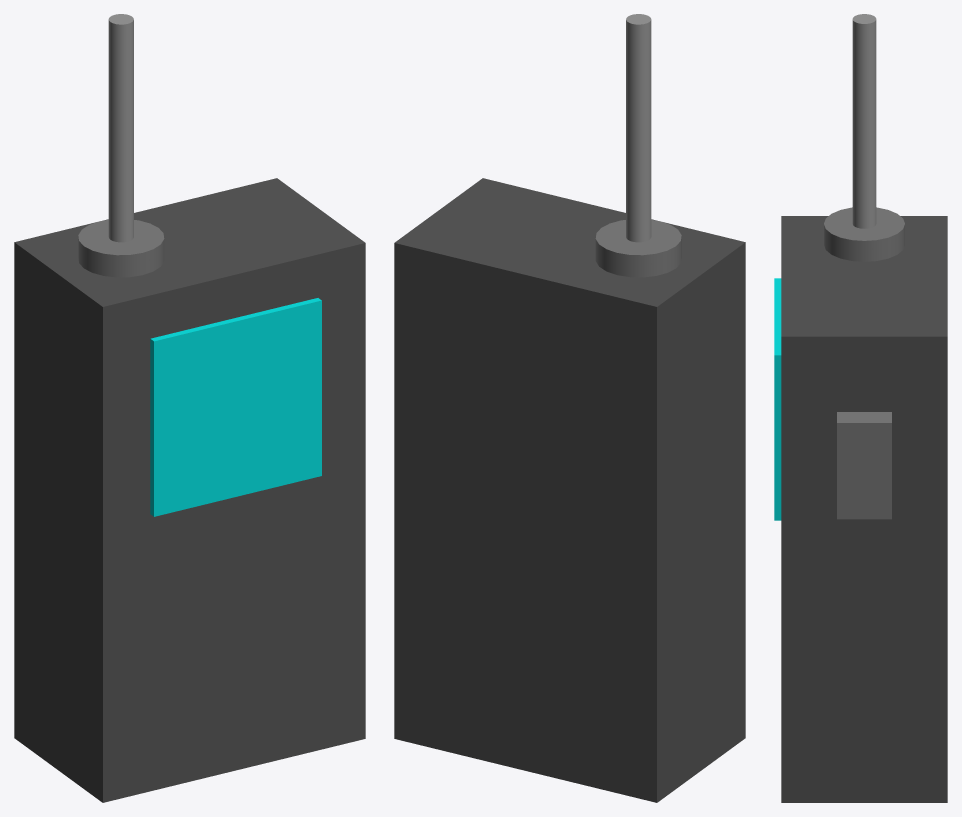
Rendered from Ally Pickup.fbx.
The picture shows the model from 3 angles, left to right: view 1: azimuth 30°, elevation 25°; view 2: azimuth 150°, elevation 25°; view 3: azimuth 270°, elevation 25°; orthographic projection. The views are drawn at different scales.
Parts seen in each view (by area): view 1: Ally_Ship_Pickup; view 2: Ally_Ship_Pickup; view 3: Ally_Ship_Pickup.
Boxes of the visible parts, x1=… form: Ally_Ship_Pickup: x1=14, y1=14, x2=365, y2=802; Ally_Ship_Pickup: x1=394, y1=14, x2=745, y2=802; Ally_Ship_Pickup: x1=774, y1=14, x2=947, y2=802.
Size of the model in its own units: 7.68 by 18.8 by 4.27.
